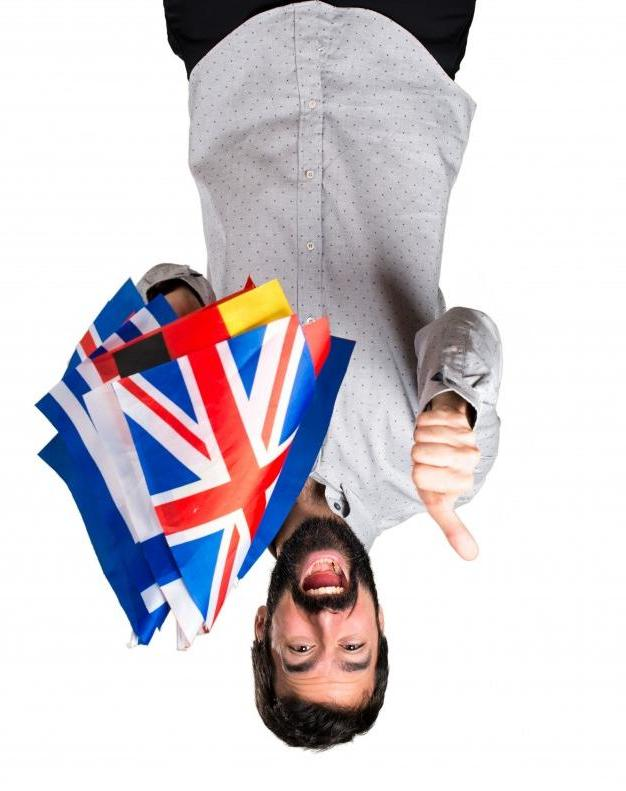thumbsdown: (411, 411, 479, 561)
